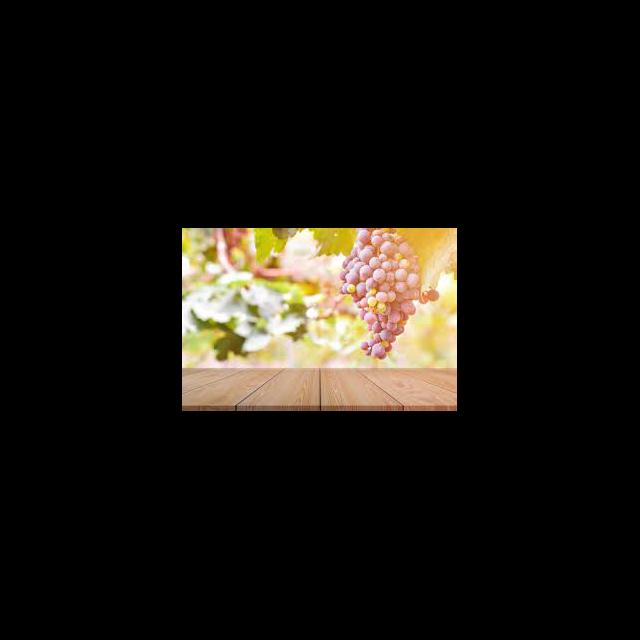grape: (338, 228, 439, 359)
